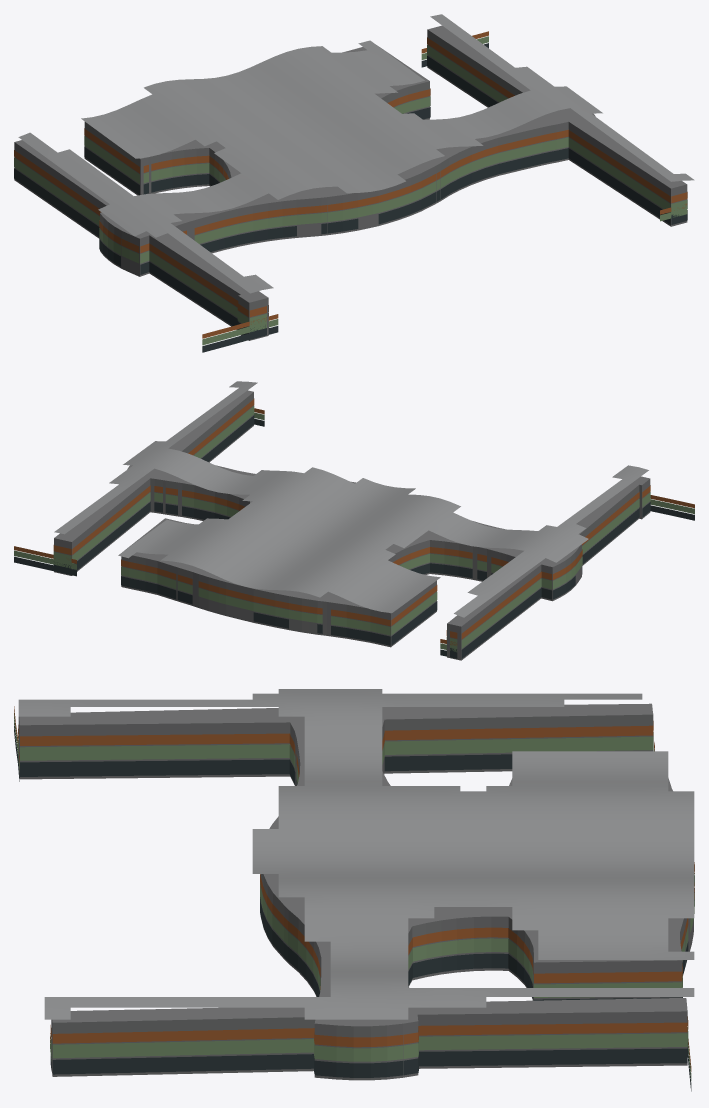
File: scl_terminal_t2.glb
3 renders of one model, top to bottom at view 1: azimuth 30°, elevation 25°; view 2: azimuth 150°, elevation 25°; view 3: azimuth 270°, elevation 25°, orthographic. The views are drawn at different scales.
Visible parts, largest first — view 1: scl_terminal_t2; view 2: scl_terminal_t2; view 3: scl_terminal_t2.
Part boxes in pixels (left/top/right/bottom): scl_terminal_t2: left=14, top=14, right=694, bottom=352; scl_terminal_t2: left=14, top=381, right=694, bottom=660; scl_terminal_t2: left=14, top=689, right=694, bottom=1091.
Bounding box in the file's own units: 403 × 34.98 × 319.
